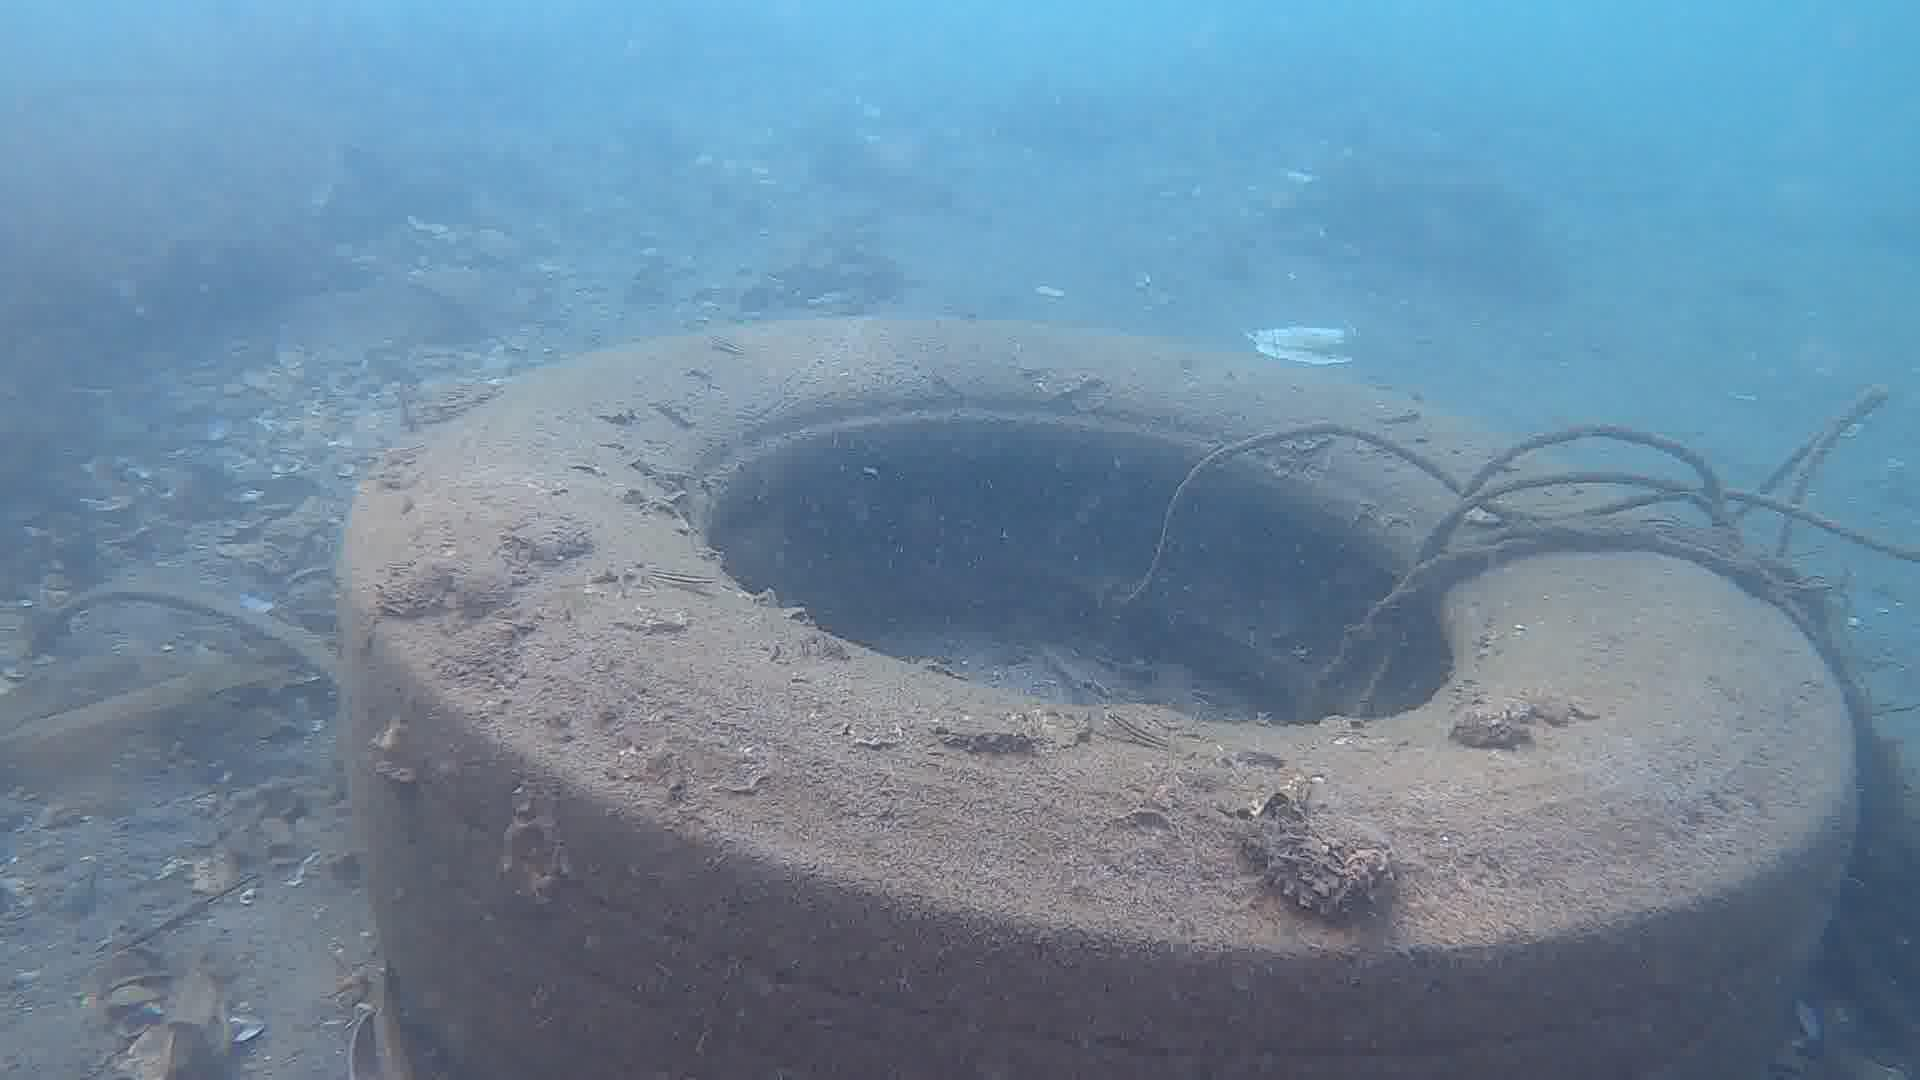bundle of ropes: (1116, 378, 1920, 716)
tire: (336, 313, 1859, 1080)
